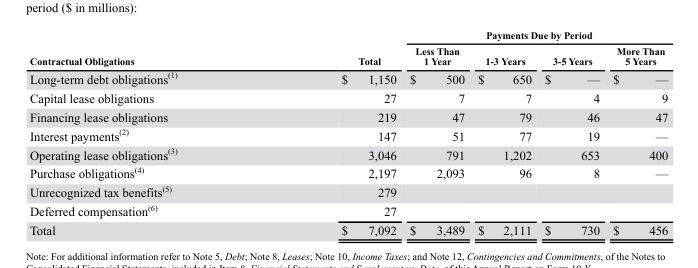table: (28, 28, 667, 237)
table column: (28, 28, 258, 237), (258, 28, 402, 237), (402, 28, 470, 237), (537, 28, 605, 237), (470, 28, 537, 237), (605, 28, 667, 237)
table column header: (28, 28, 667, 68)
table row: (28, 42, 667, 68), (28, 200, 667, 220), (28, 68, 667, 87), (28, 87, 667, 106), (28, 124, 667, 143), (28, 143, 667, 162), (28, 162, 667, 181), (28, 181, 667, 200), (28, 106, 667, 124), (28, 220, 667, 237), (28, 28, 667, 42)
table spanning cell: (28, 28, 258, 68), (258, 28, 402, 68), (402, 28, 667, 42)
